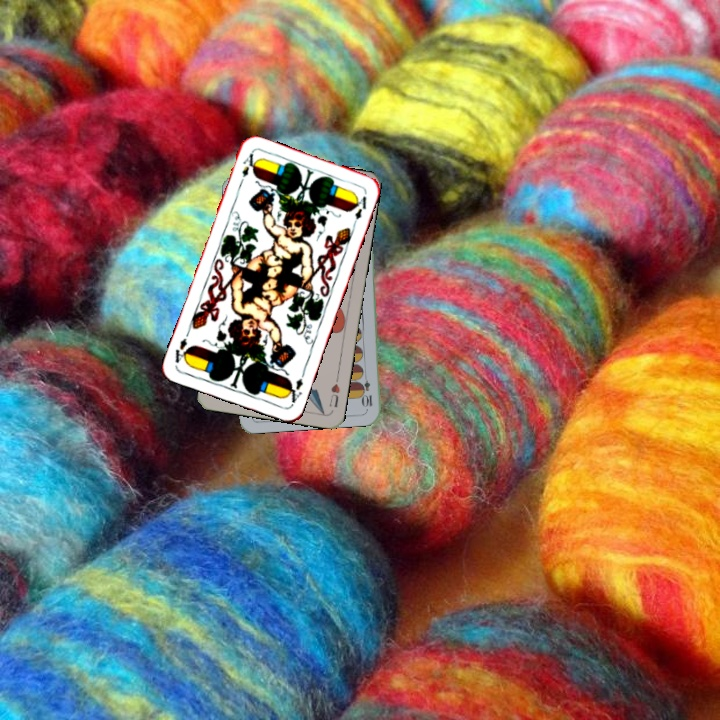E10: (359, 369, 375, 410)
EA: (282, 367, 307, 407), (238, 149, 259, 180)
HU: (325, 372, 342, 410)
